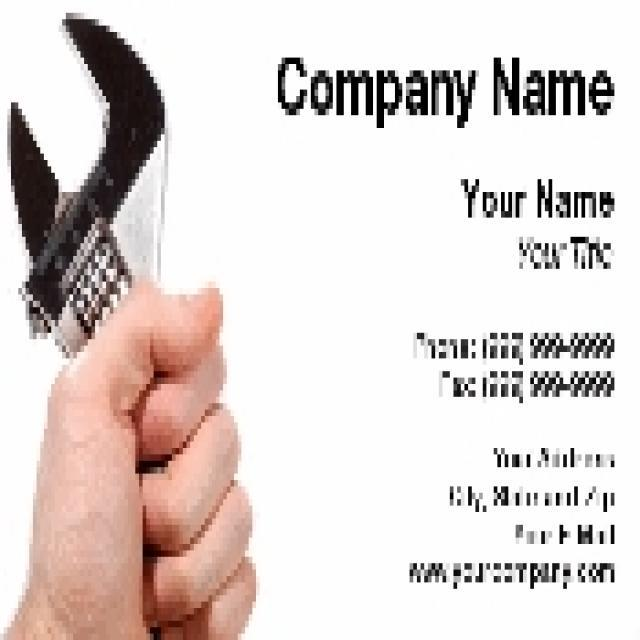wrench: (1, 3, 189, 425)
